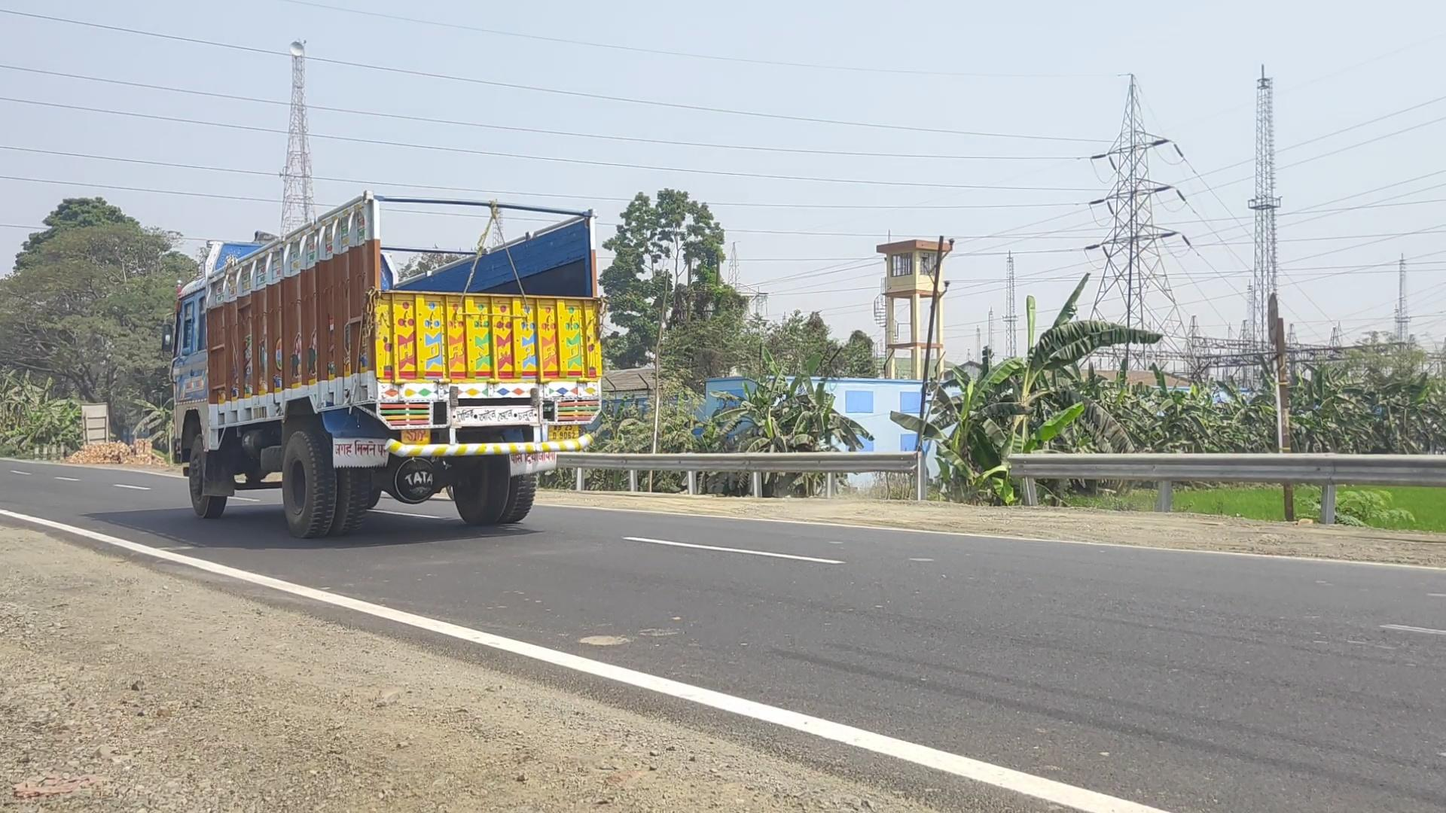truck: (161, 190, 607, 540)
